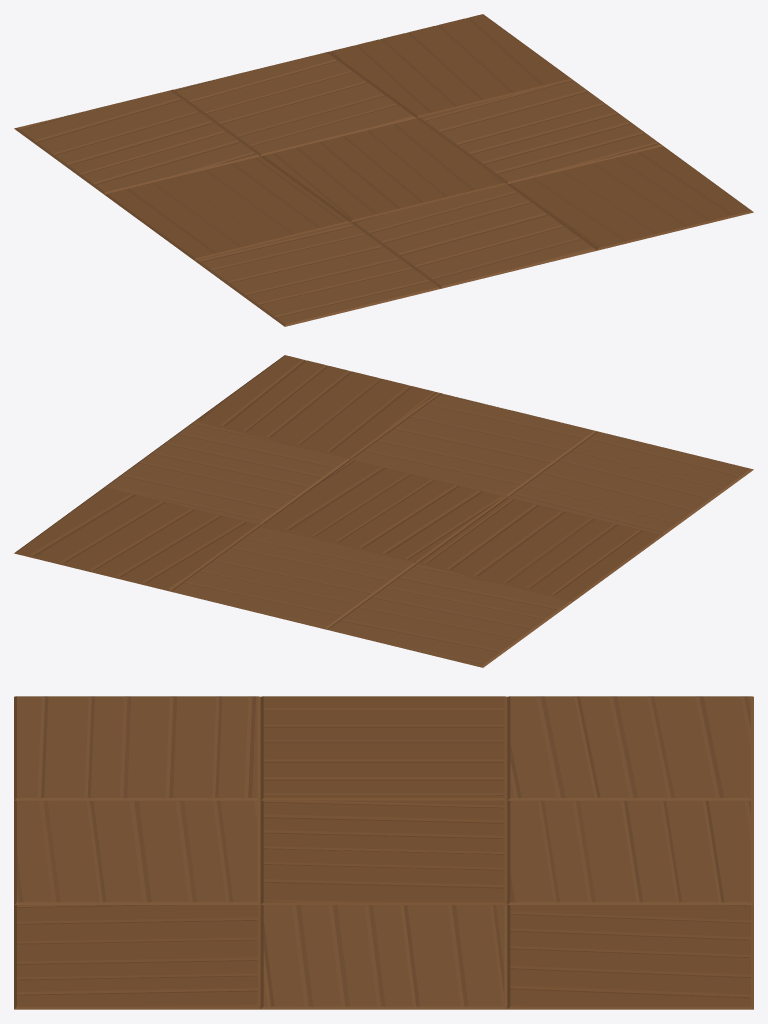
The model's file is Wood_Floor_Module_02_01.glb.
The picture shows the model from 3 angles, top to bottom: view 1: azimuth 30°, elevation 25°; view 2: azimuth 150°, elevation 25°; view 3: azimuth 270°, elevation 25°; orthographic projection. The views are drawn at different scales.
Visible parts, largest first — view 1: Wood_Floor_Module_02_01; view 2: Wood_Floor_Module_02_01; view 3: Wood_Floor_Module_02_01.
Boxes of the visible parts, <box> form: Wood_Floor_Module_02_01: <box>14,14,753,326</box>; Wood_Floor_Module_02_01: <box>14,355,753,667</box>; Wood_Floor_Module_02_01: <box>14,696,753,1009</box>.
Bounding box in the file's own units: 4.74 × 0.012 × 4.74.
